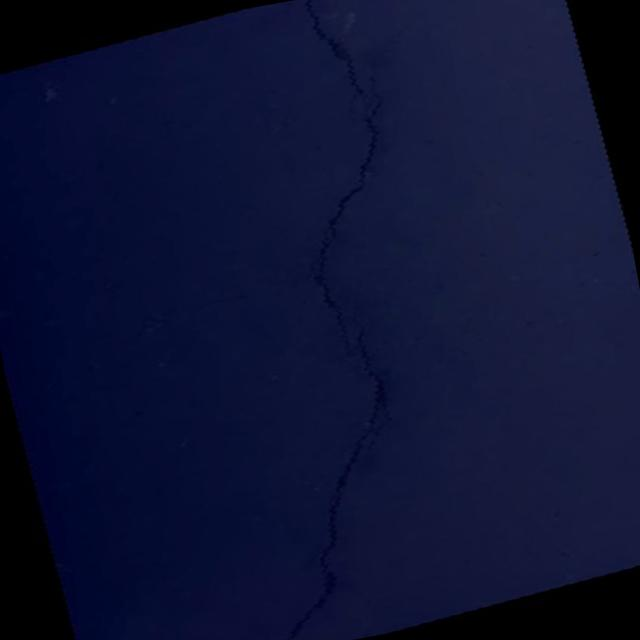crack: (239, 0, 440, 347), (216, 429, 419, 640), (332, 302, 398, 450)
